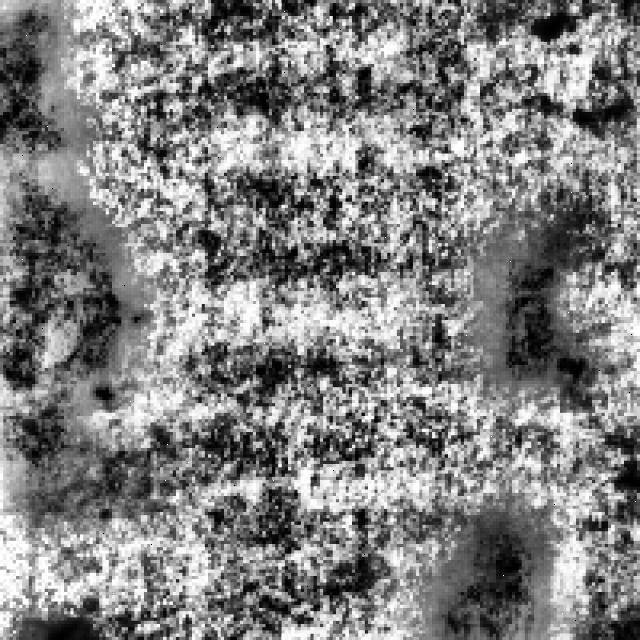Scratches: (0, 175, 128, 438), (432, 506, 541, 634), (486, 224, 566, 381), (0, 0, 74, 157)
